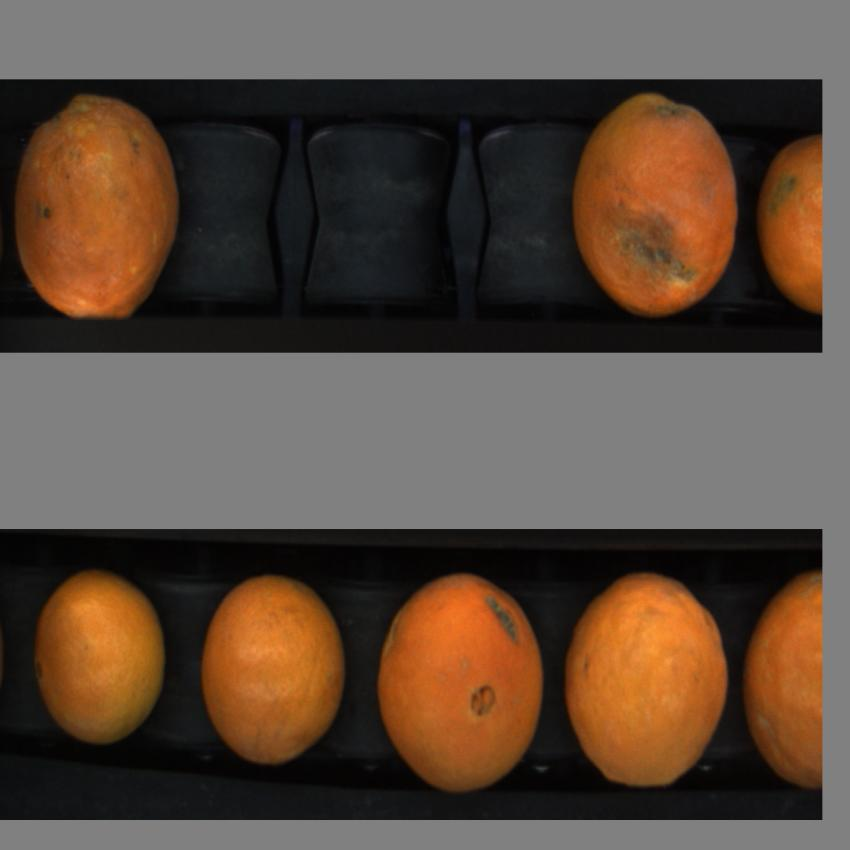Buen estado: (564, 564, 731, 794), (197, 559, 350, 776), (30, 563, 170, 750), (742, 562, 822, 792), (755, 131, 822, 319)
Mal estado: (371, 565, 554, 795), (571, 85, 748, 322), (14, 90, 181, 322)
